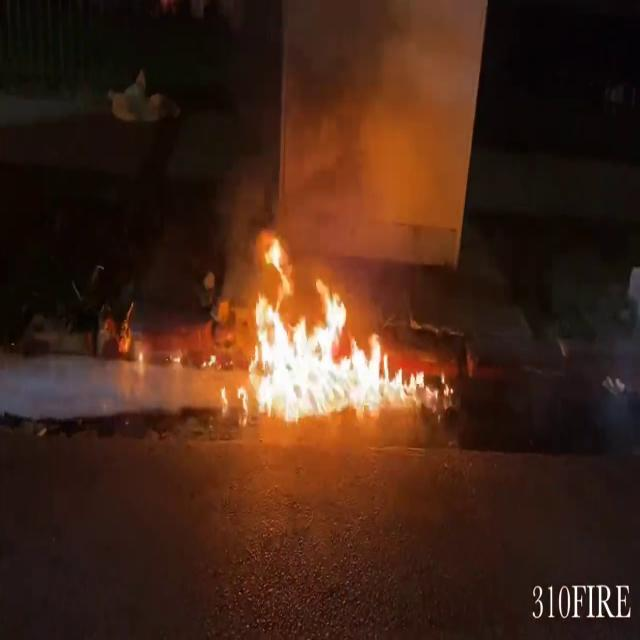Fire: (230, 221, 430, 423)
Smoke: (276, 0, 482, 278)
